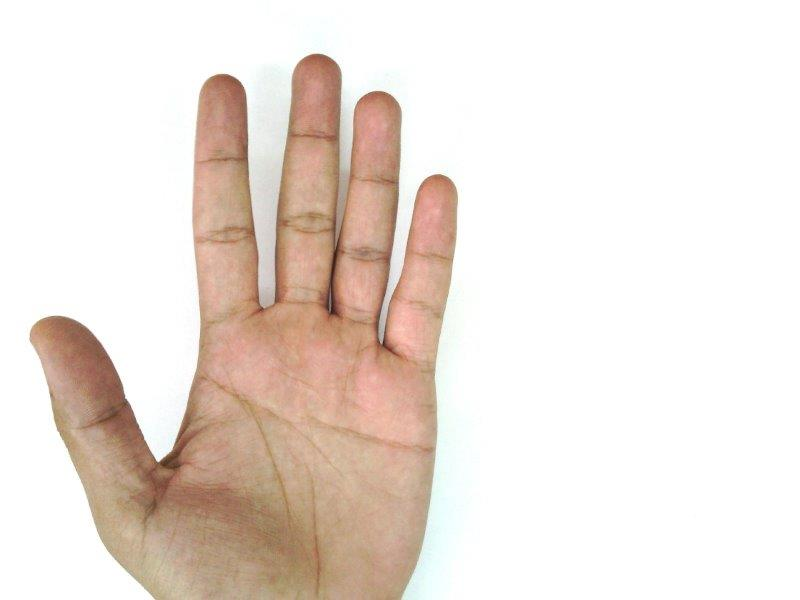hand: (29, 54, 456, 594)
